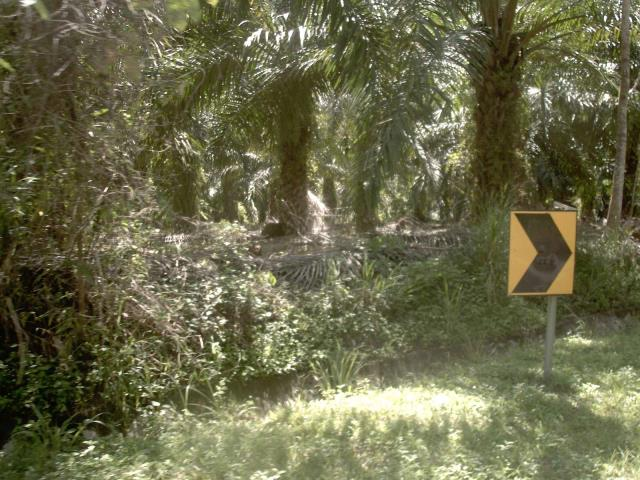traffic_sign: (498, 197, 585, 313)
